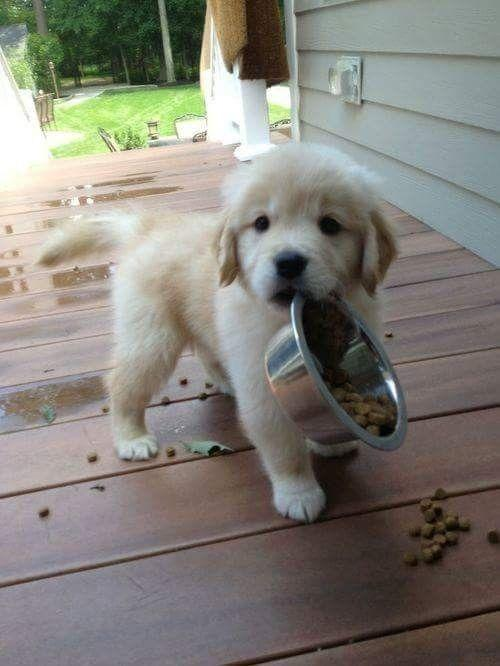puppy-dog: (21, 140, 402, 525)
